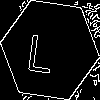L: (25, 25, 57, 74)
